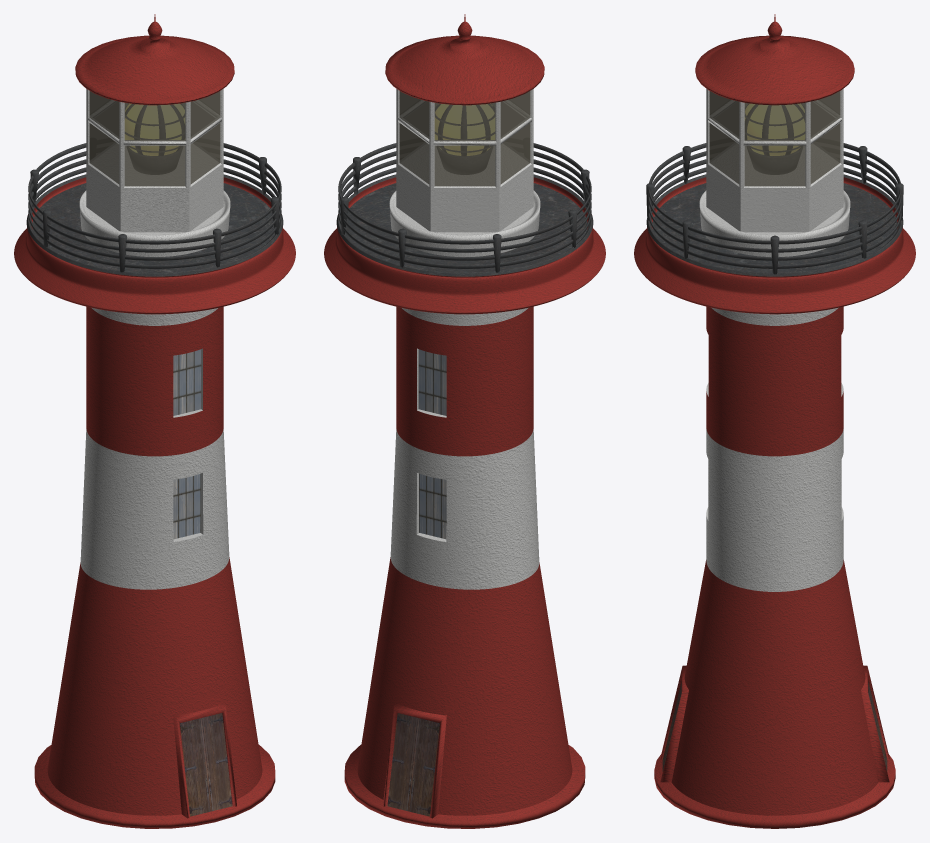
Rendered from Ligthouse.fbx.
The picture shows the model from 3 angles, left to right: view 1: azimuth 30°, elevation 25°; view 2: azimuth 150°, elevation 25°; view 3: azimuth 270°, elevation 25°; orthographic projection.
Visible parts, largest first — view 1: Lighthouse, Lamp; view 2: Lighthouse, Lamp; view 3: Lighthouse, Lamp.
Boxes of the visible parts, bbox=[...] form: Lighthouse: bbox=[14, 14, 295, 828]; Lamp: bbox=[125, 104, 184, 174]; Lighthouse: bbox=[324, 14, 605, 828]; Lamp: bbox=[435, 104, 494, 174]; Lighthouse: bbox=[634, 14, 915, 828]; Lamp: bbox=[745, 104, 804, 174].
Bounding box in the file's own units: 411 × 411 × 1230.
Materials: 7 (5 with a texture image).
